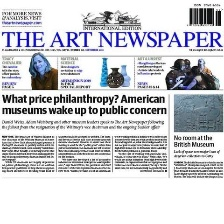news_paper: (0, 0, 224, 179)
